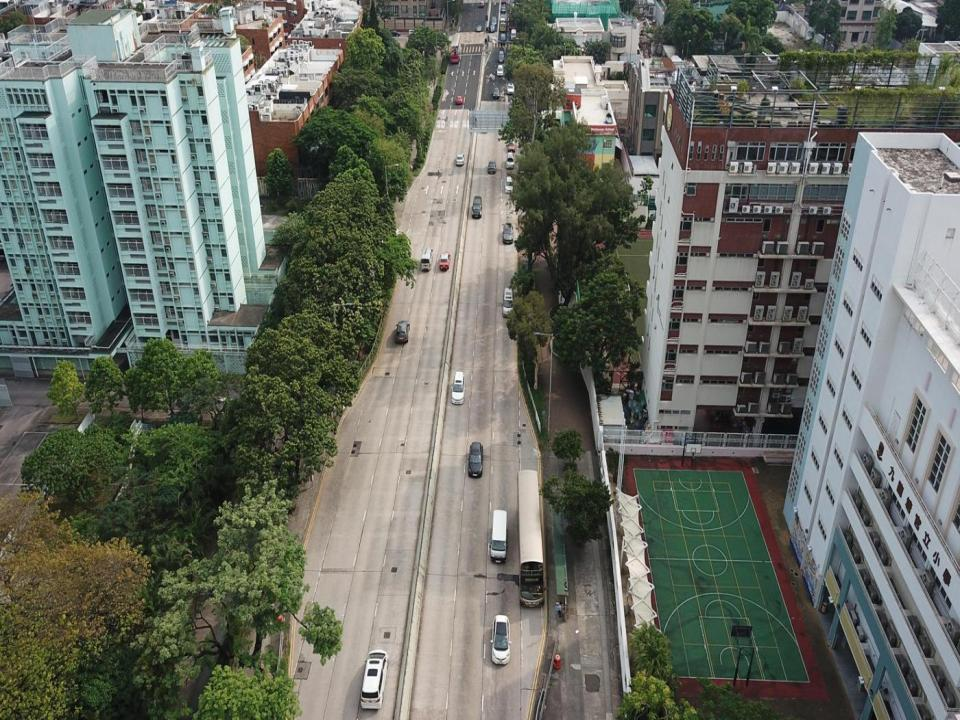bus: (516, 470, 546, 608), (450, 32, 461, 65), (501, 15, 506, 32)
car: (490, 613, 511, 664), (468, 441, 485, 476), (450, 371, 465, 404), (396, 319, 408, 342), (502, 221, 514, 244), (437, 252, 450, 271), (505, 174, 514, 193), (508, 135, 516, 154), (487, 161, 497, 174), (507, 80, 515, 94), (505, 155, 513, 169), (456, 154, 464, 167), (493, 86, 501, 98), (496, 61, 504, 73), (498, 50, 505, 61), (456, 94, 463, 103), (476, 23, 482, 32), (491, 14, 497, 22), (501, 4, 506, 12), (501, 32, 505, 42), (490, 23, 494, 32), (479, 2, 484, 6)
van: (360, 650, 388, 708), (490, 508, 508, 565), (502, 288, 514, 318), (421, 246, 433, 270), (472, 196, 482, 218), (407, 27, 420, 36), (386, 28, 400, 36), (510, 28, 517, 40)
